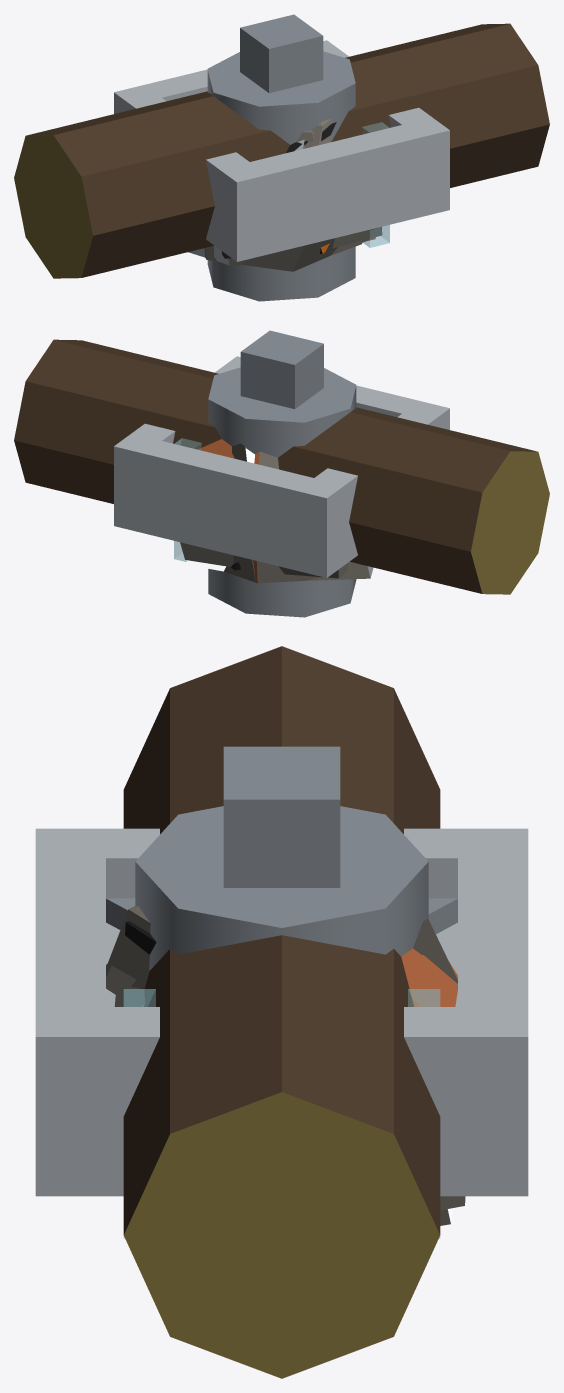
File: items_atlas.glb
The picture shows the model from 3 angles, top to bottom: view 1: azimuth 30°, elevation 25°; view 2: azimuth 150°, elevation 25°; view 3: azimuth 270°, elevation 25°; orthographic projection. The views are drawn at different scales.
Parts seen in each view (by area): view 1: Item_Log, Item_FramePart, Item_WaterCanister, Item_Cinderite, Item_StoneChunk, Item_OreChunk_Iron, Item_FerriteOre; view 2: Item_Log, Item_FramePart, Item_WaterCanister, Item_OreChunk_Copper, Item_StoneChunk, Item_OreChunk_Iron, Item_Cinderite; view 3: Item_Log, Item_FramePart, Item_WaterCanister, Item_OreChunk_Copper, Item_FerriteOre, Item_StoneChunk, Item_Cinderite, Item_FerritePlate.
Part boxes in pixels (x1,y1,x2,y2): Item_Log: (14,23,549,278); Item_FramePart: (114,40,449,261); Item_WaterCanister: (207,14,389,301); Item_Cinderite: (204,238,337,271); Item_StoneChunk: (222,130,382,255); Item_OreChunk_Iron: (188,139,362,265); Item_FerriteOre: (304,118,368,242); Item_Log: (14,339,549,594); Item_FramePart: (114,356,449,577); Item_WaterCanister: (174,330,356,617); Item_OreChunk_Copper: (198,439,321,583); Item_StoneChunk: (180,542,347,578); Item_OreChunk_Iron: (224,555,373,582); Item_Cinderite: (186,443,254,571); Item_Log: (123,646,440,1378); Item_FramePart: (35,828,528,1196); Item_WaterCanister: (123,746,440,1238); Item_OreChunk_Copper: (401,948,457,1006); Item_FerriteOre: (106,906,150,989); Item_StoneChunk: (106,965,465,1210); Item_Cinderite: (413,918,457,1225); Item_FerritePlate: (106,922,457,1006).
Size of the model in its own units: 0.6 by 0.3 by 0.28.
